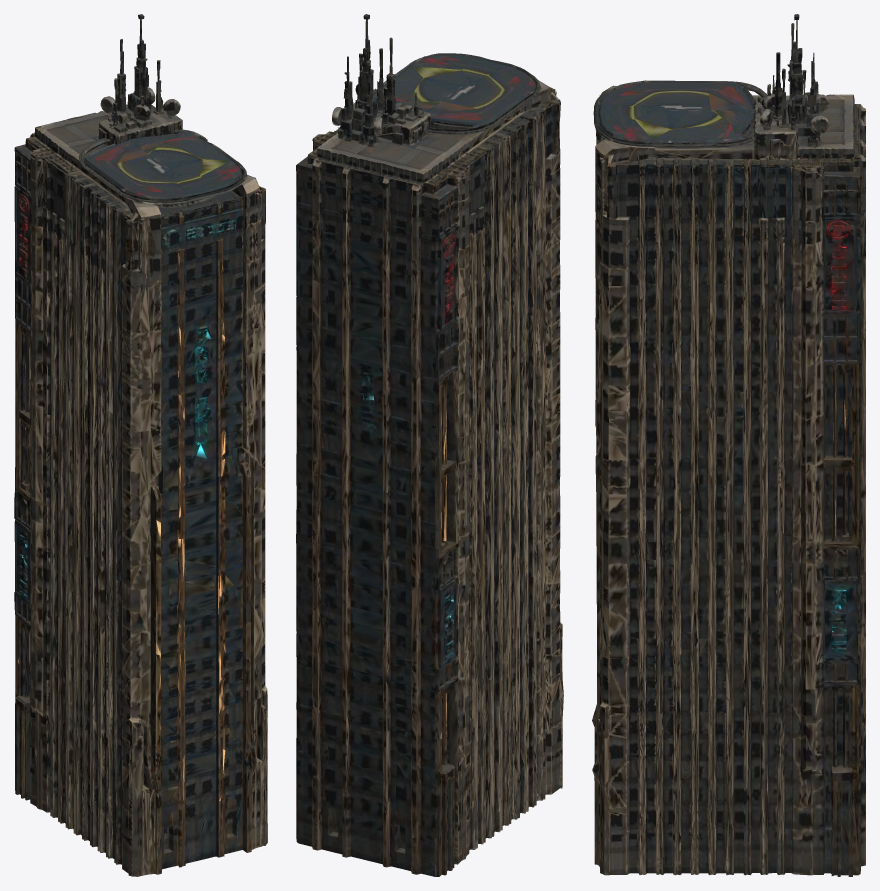
3 renders of one model, left to right at view 1: azimuth 30°, elevation 25°; view 2: azimuth 150°, elevation 25°; view 3: azimuth 270°, elevation 25°, orthographic. The views are drawn at different scales.
Parts seen in each view (by area): view 1: t06; view 2: t06; view 3: t06.
Boxes of the visible parts, x1,y1,x2,y2 form: t06: [14, 14, 267, 876]; t06: [296, 14, 563, 876]; t06: [592, 14, 865, 876].
Bounding box in the file's own units: 29.63 × 150 × 44.3.
Materials: 1 (1 with a texture image).
